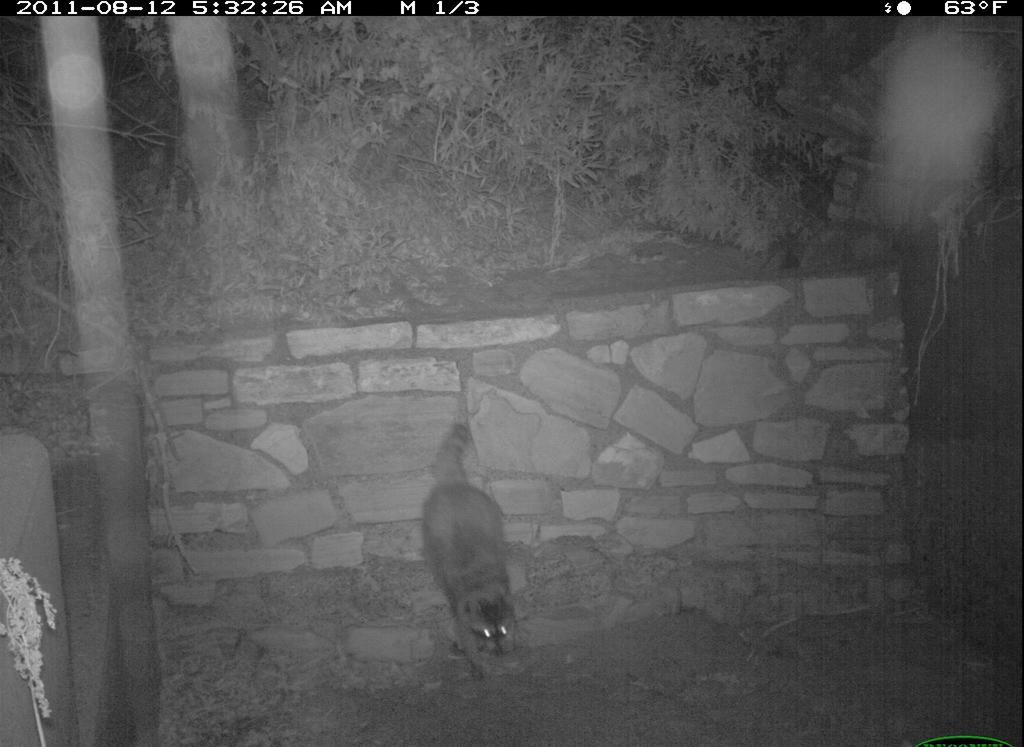raccoon: (417, 417, 532, 683)
